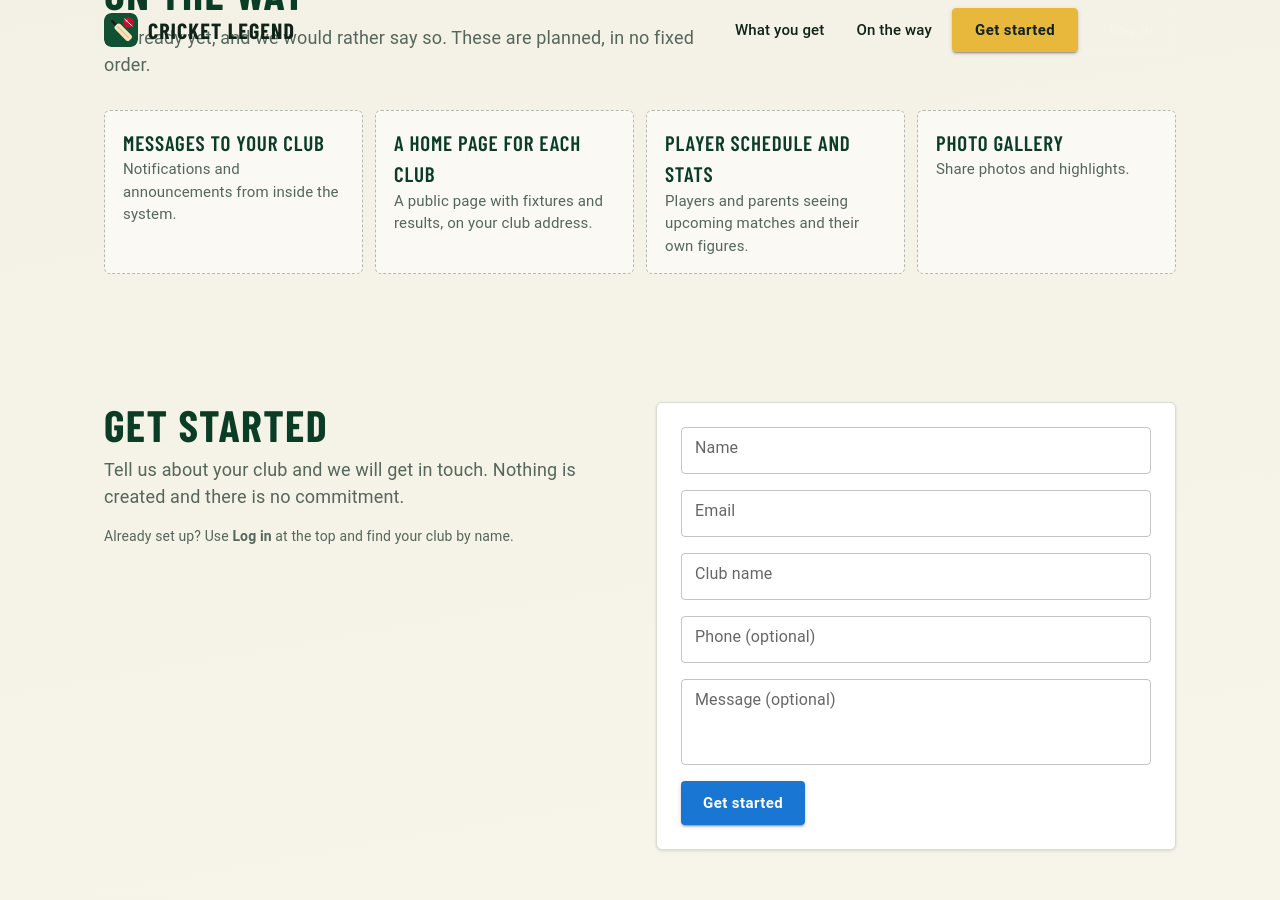
LandingPage lead-capture form › submits successfully with valid data
(page scrolled)
Type "Riaan Coetzee" into the field labelled "Name" at (916, 451), box [681, 427, 1151, 474]
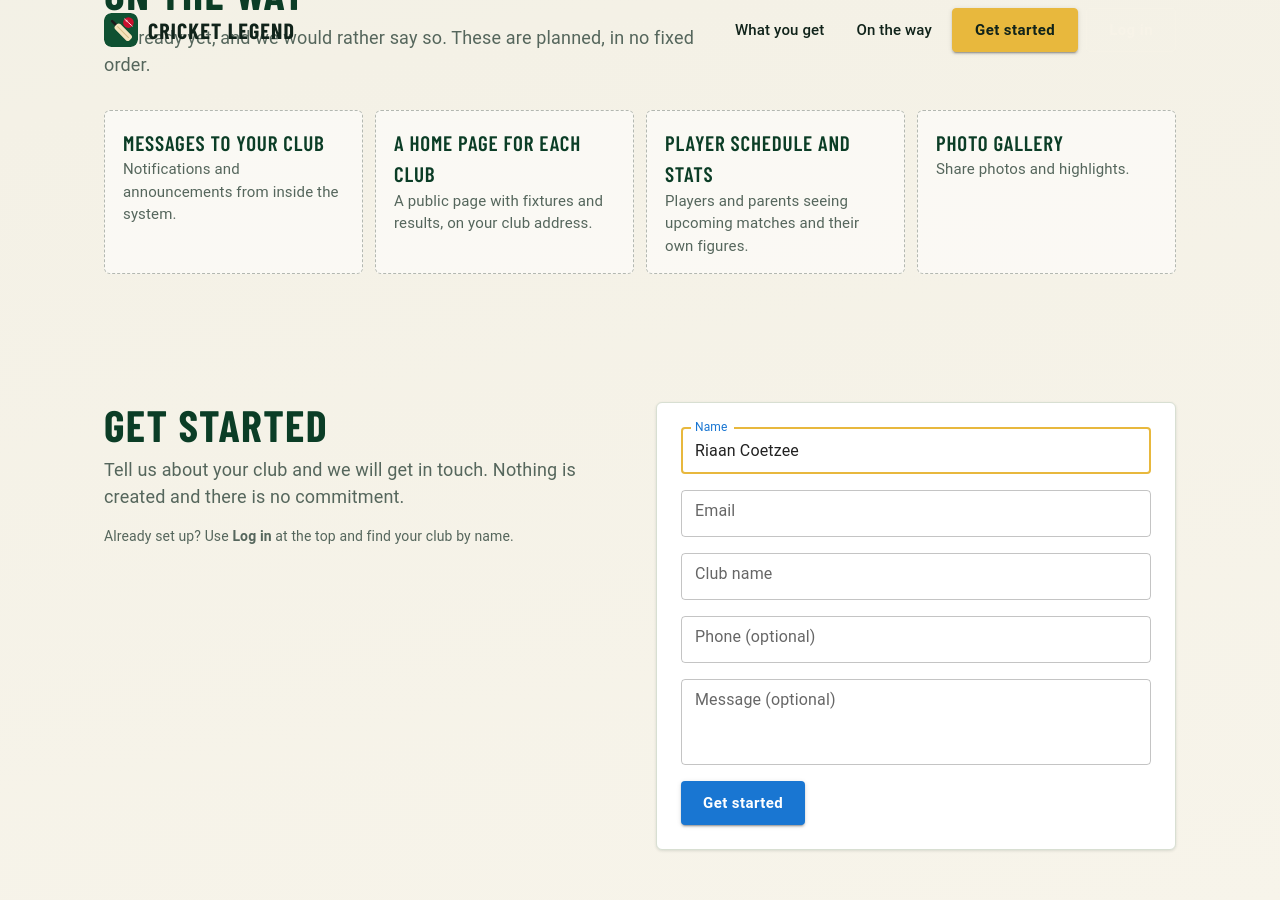
Type "riaan@riverside.example" into the field labelled "Email" at (916, 514), box [681, 490, 1151, 537]
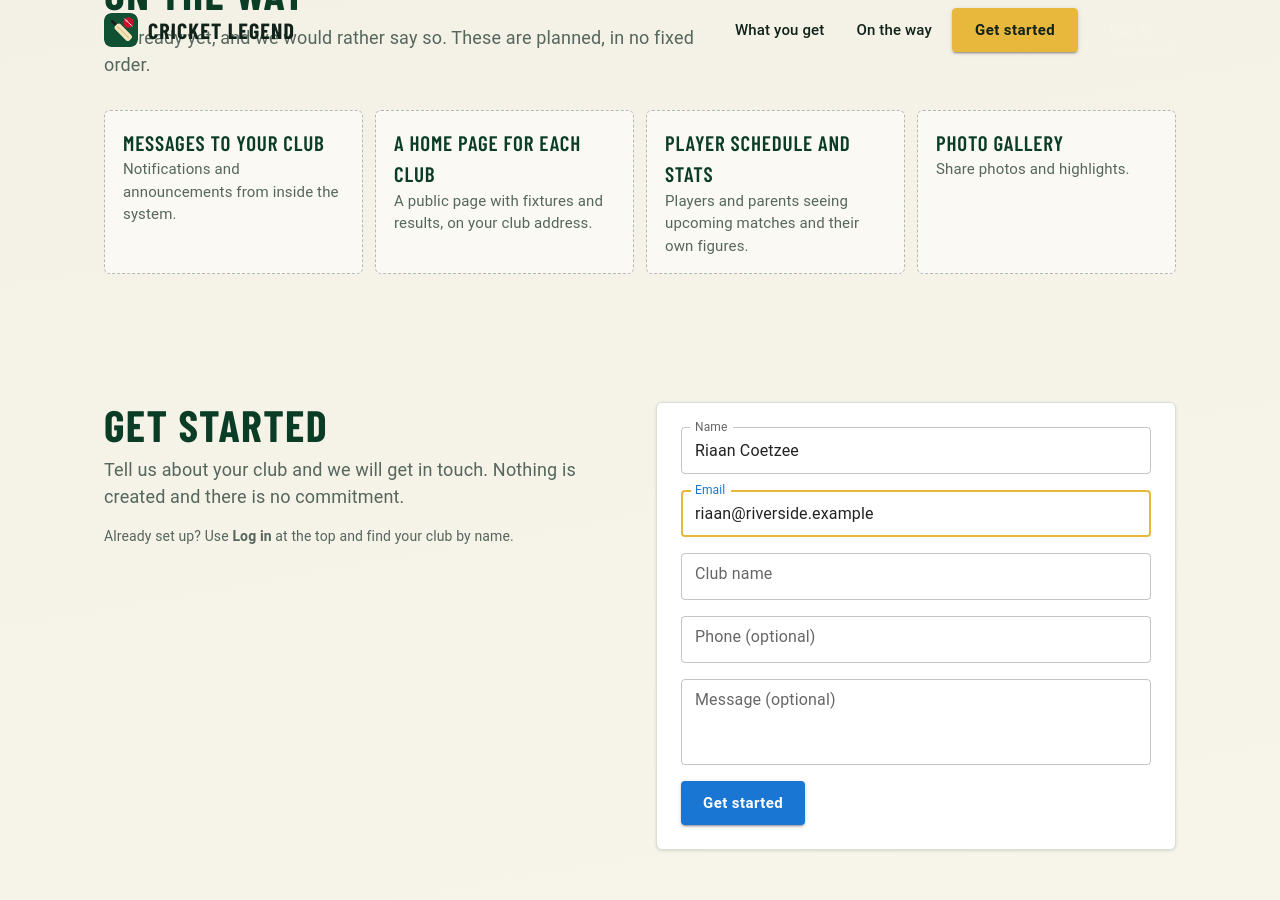
Type "Riverside CC" into the field labelled "Club name" at (916, 577), box [681, 553, 1151, 600]
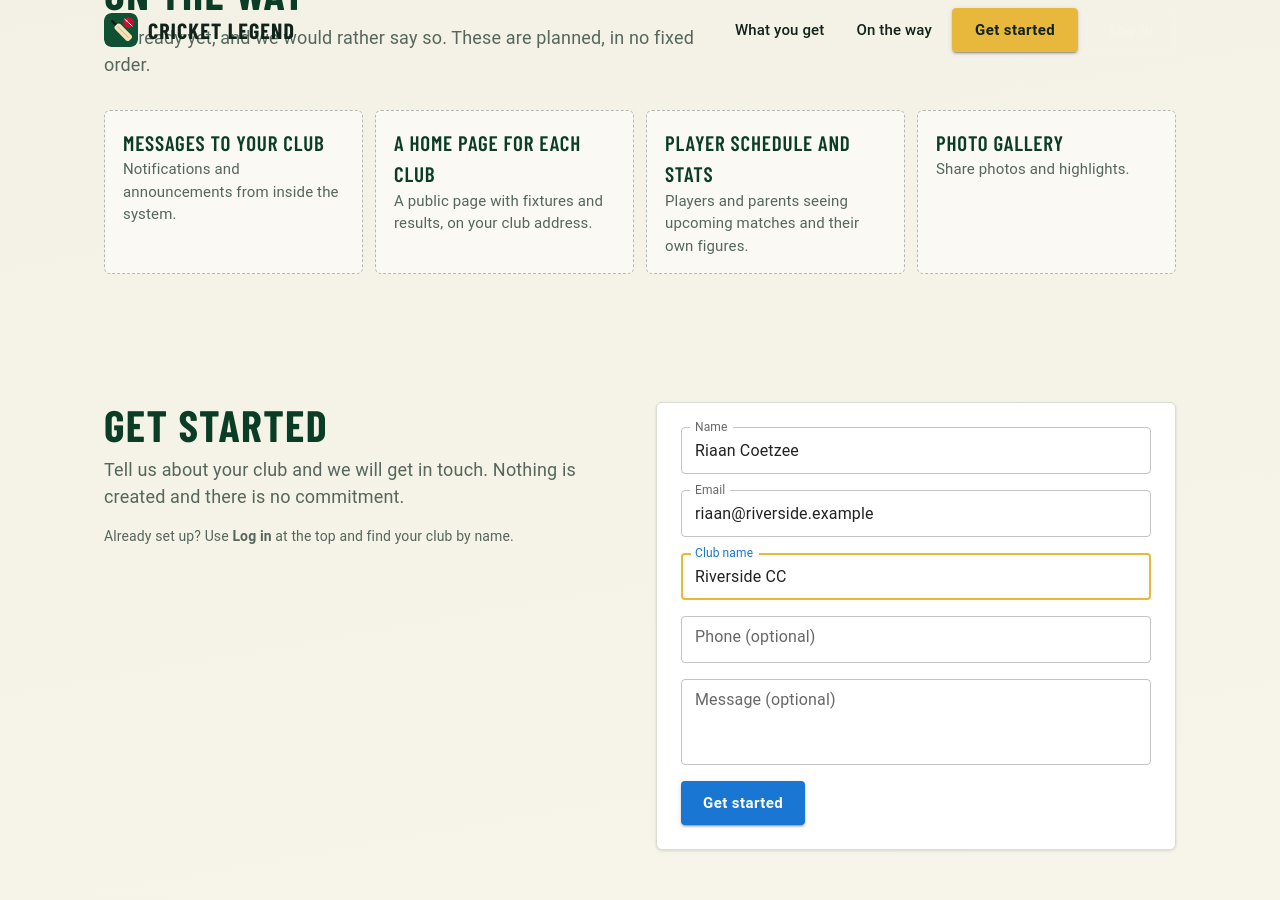
Click the button "Get started" at (743, 803), box [681, 781, 805, 825]
(page scrolled)
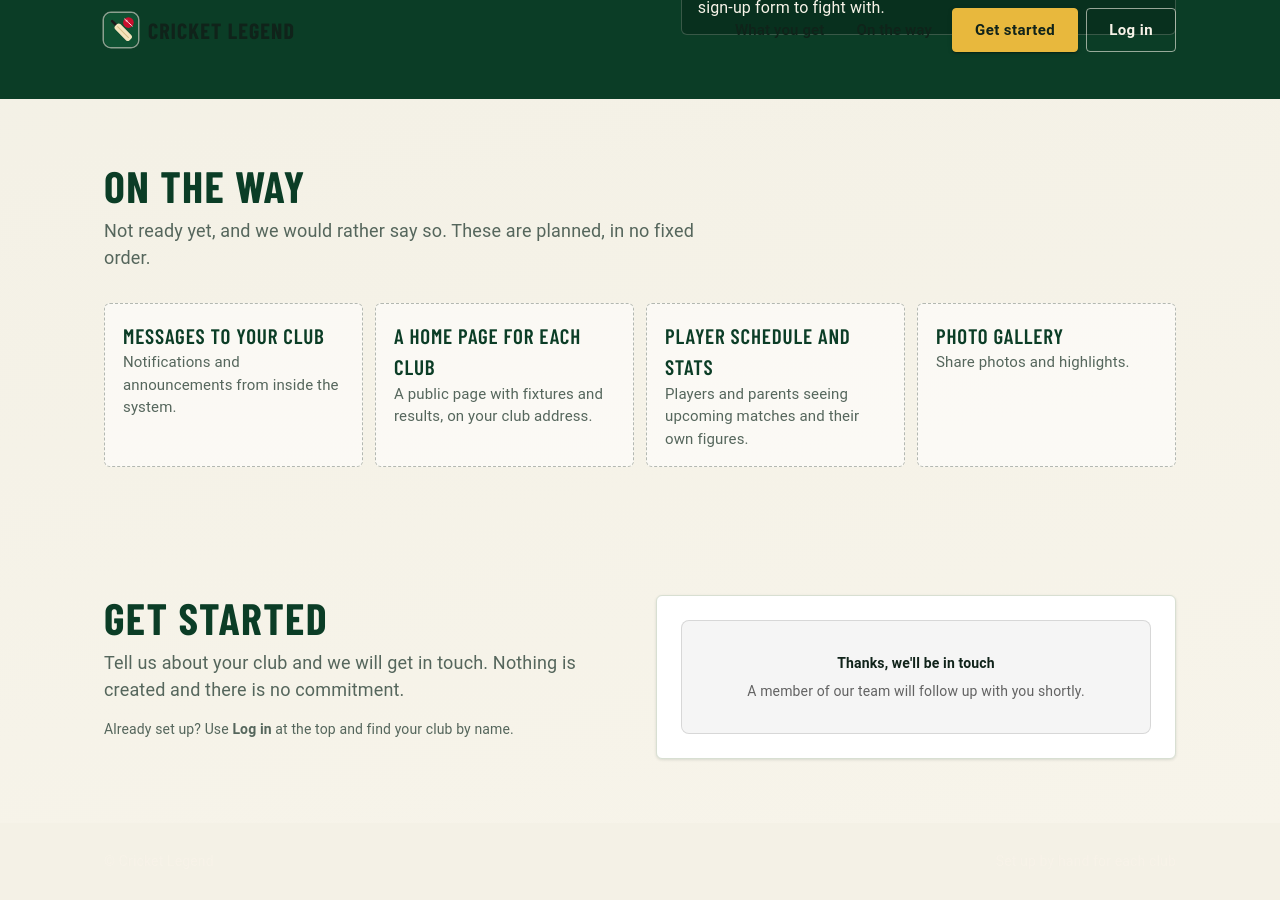
Check: the text "Thanks, we'll be in touch" is shown, box [837, 653, 995, 673]
